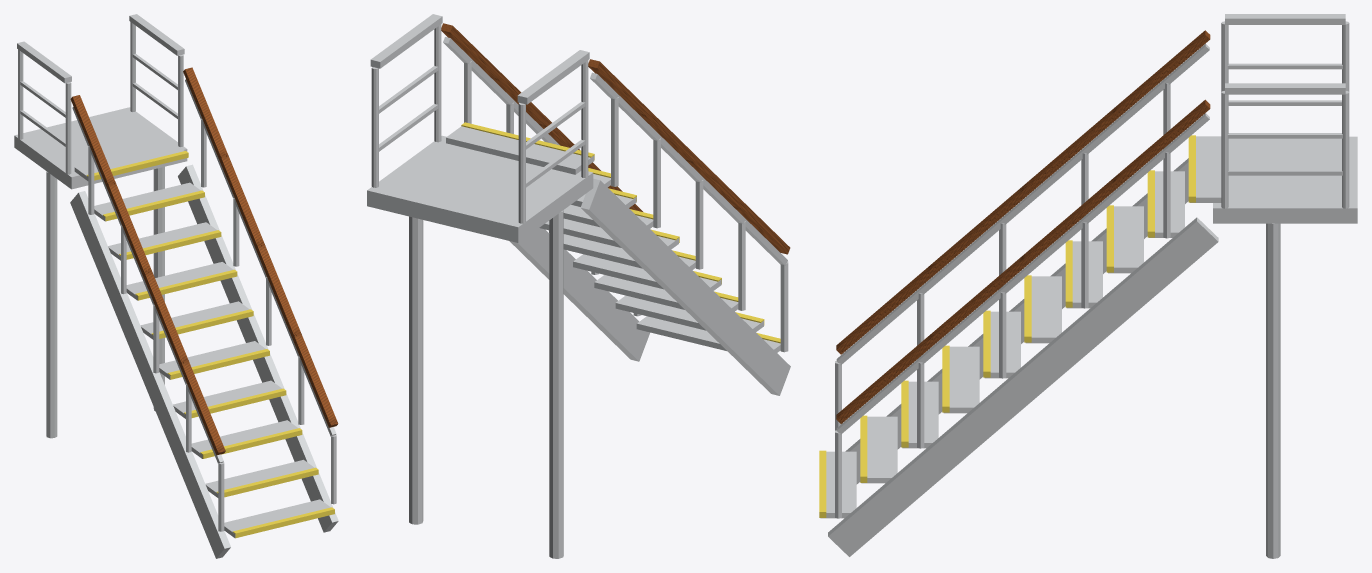
File: cruise-ship-deck-and-lounge-cruise-ship-deck-and-loung-d8205be9__38420.glb
3 views of the same model, side by side, from view 1: azimuth 30°, elevation 25°; view 2: azimuth 150°, elevation 25°; view 3: azimuth 270°, elevation 25° (orthographic). The views are drawn at different scales.
Parts seen in each view (by area): view 1: cruise-ship-deck-and-lounge-companionway-stair; view 2: cruise-ship-deck-and-lounge-companionway-stair; view 3: cruise-ship-deck-and-lounge-companionway-stair.
Boxes of the visible parts, x1=… form: cruise-ship-deck-and-lounge-companionway-stair: x1=14, y1=14, x2=338, y2=558; cruise-ship-deck-and-lounge-companionway-stair: x1=367, y1=14, x2=790, y2=558; cruise-ship-deck-and-lounge-companionway-stair: x1=819, y1=14, x2=1357, y2=558.
Size of the model in its own units: 1.45 by 4.31 by 4.46.
Materials: 3 (1 with a texture image).
